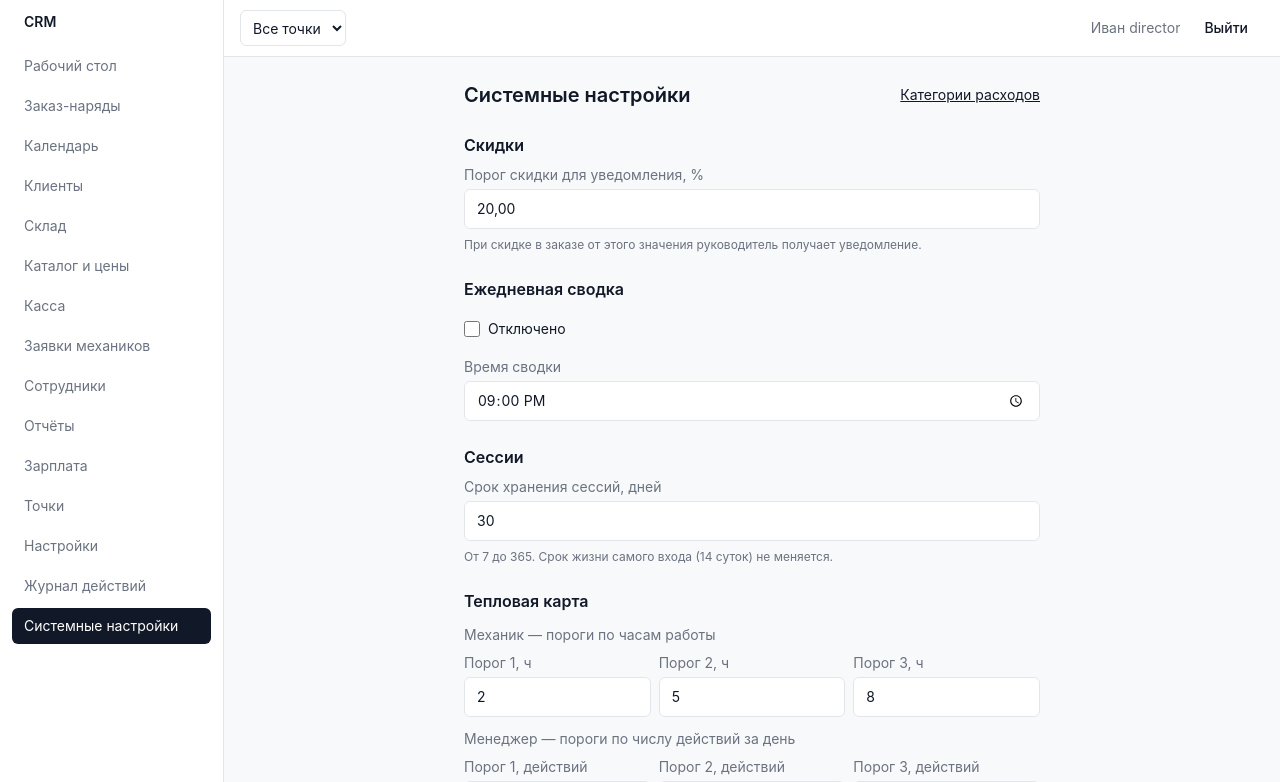
Test: системные настройки D-09 › сохранение отправляет только изменённые ключи, кнопка активна при изменениях
Replace the text in the field labelled "Порог скидки для уведомления, %" with "25" at (752, 209), box [464,189,1040,229]
(page scrolled)
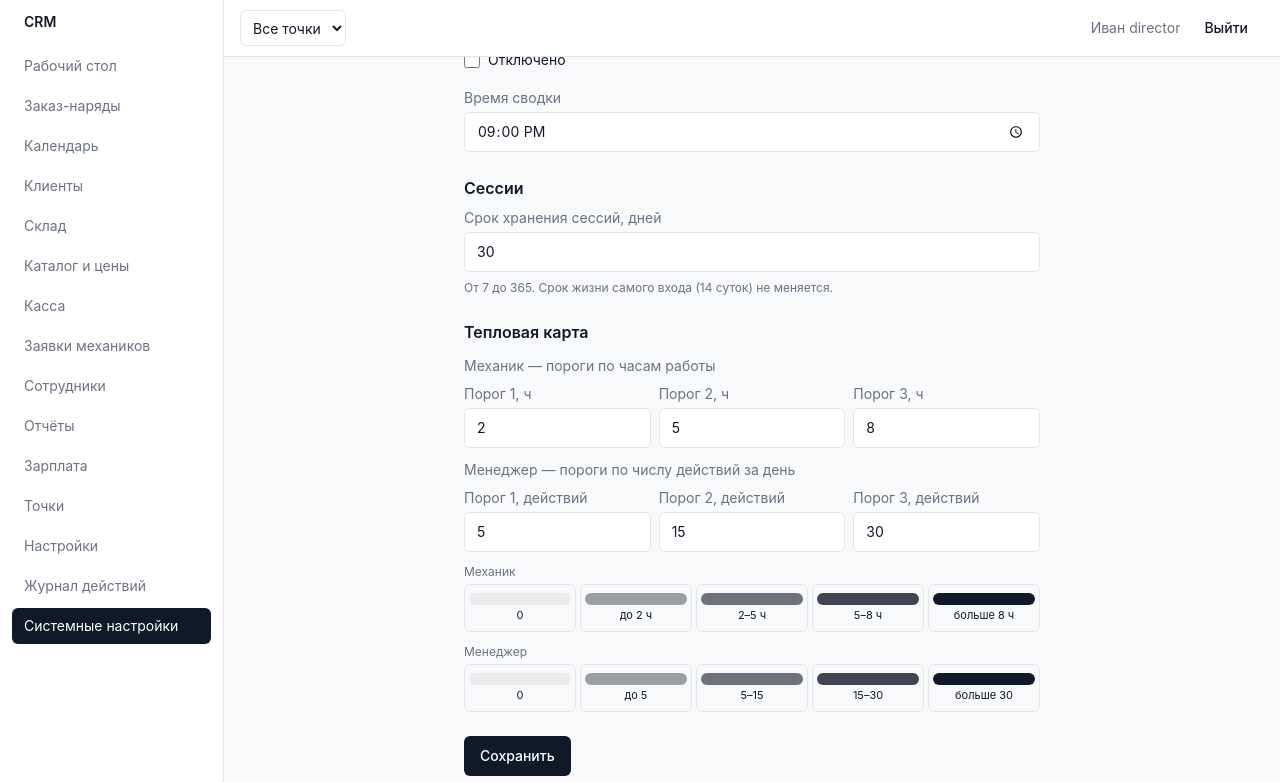
expect the button "Сохранить" is enabled: met
Click the button "Сохранить" at (517, 756), box [464,736,571,776]
(page scrolled)
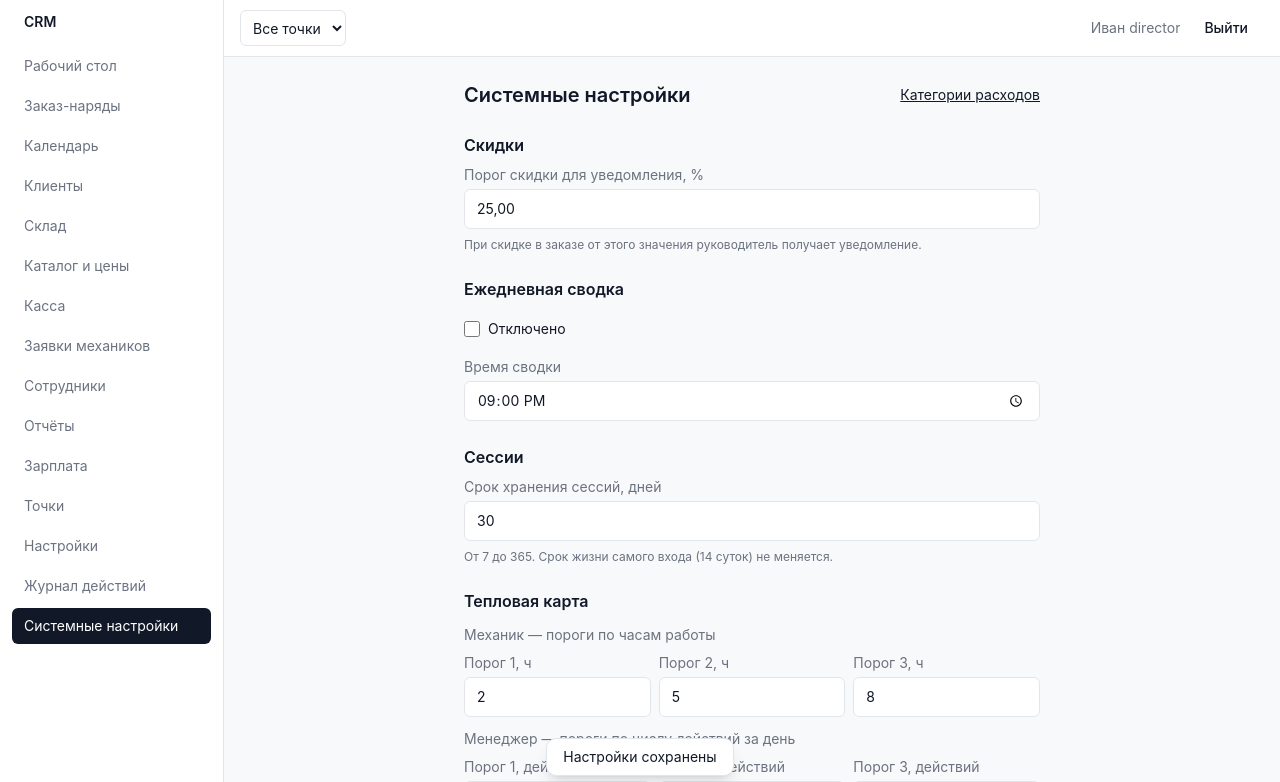
expect the text "Настройки сохранены" is shown: met, box [546,738,734,776]
expect the link "Категории расходов" is shown: met, box [900,85,1040,105]
